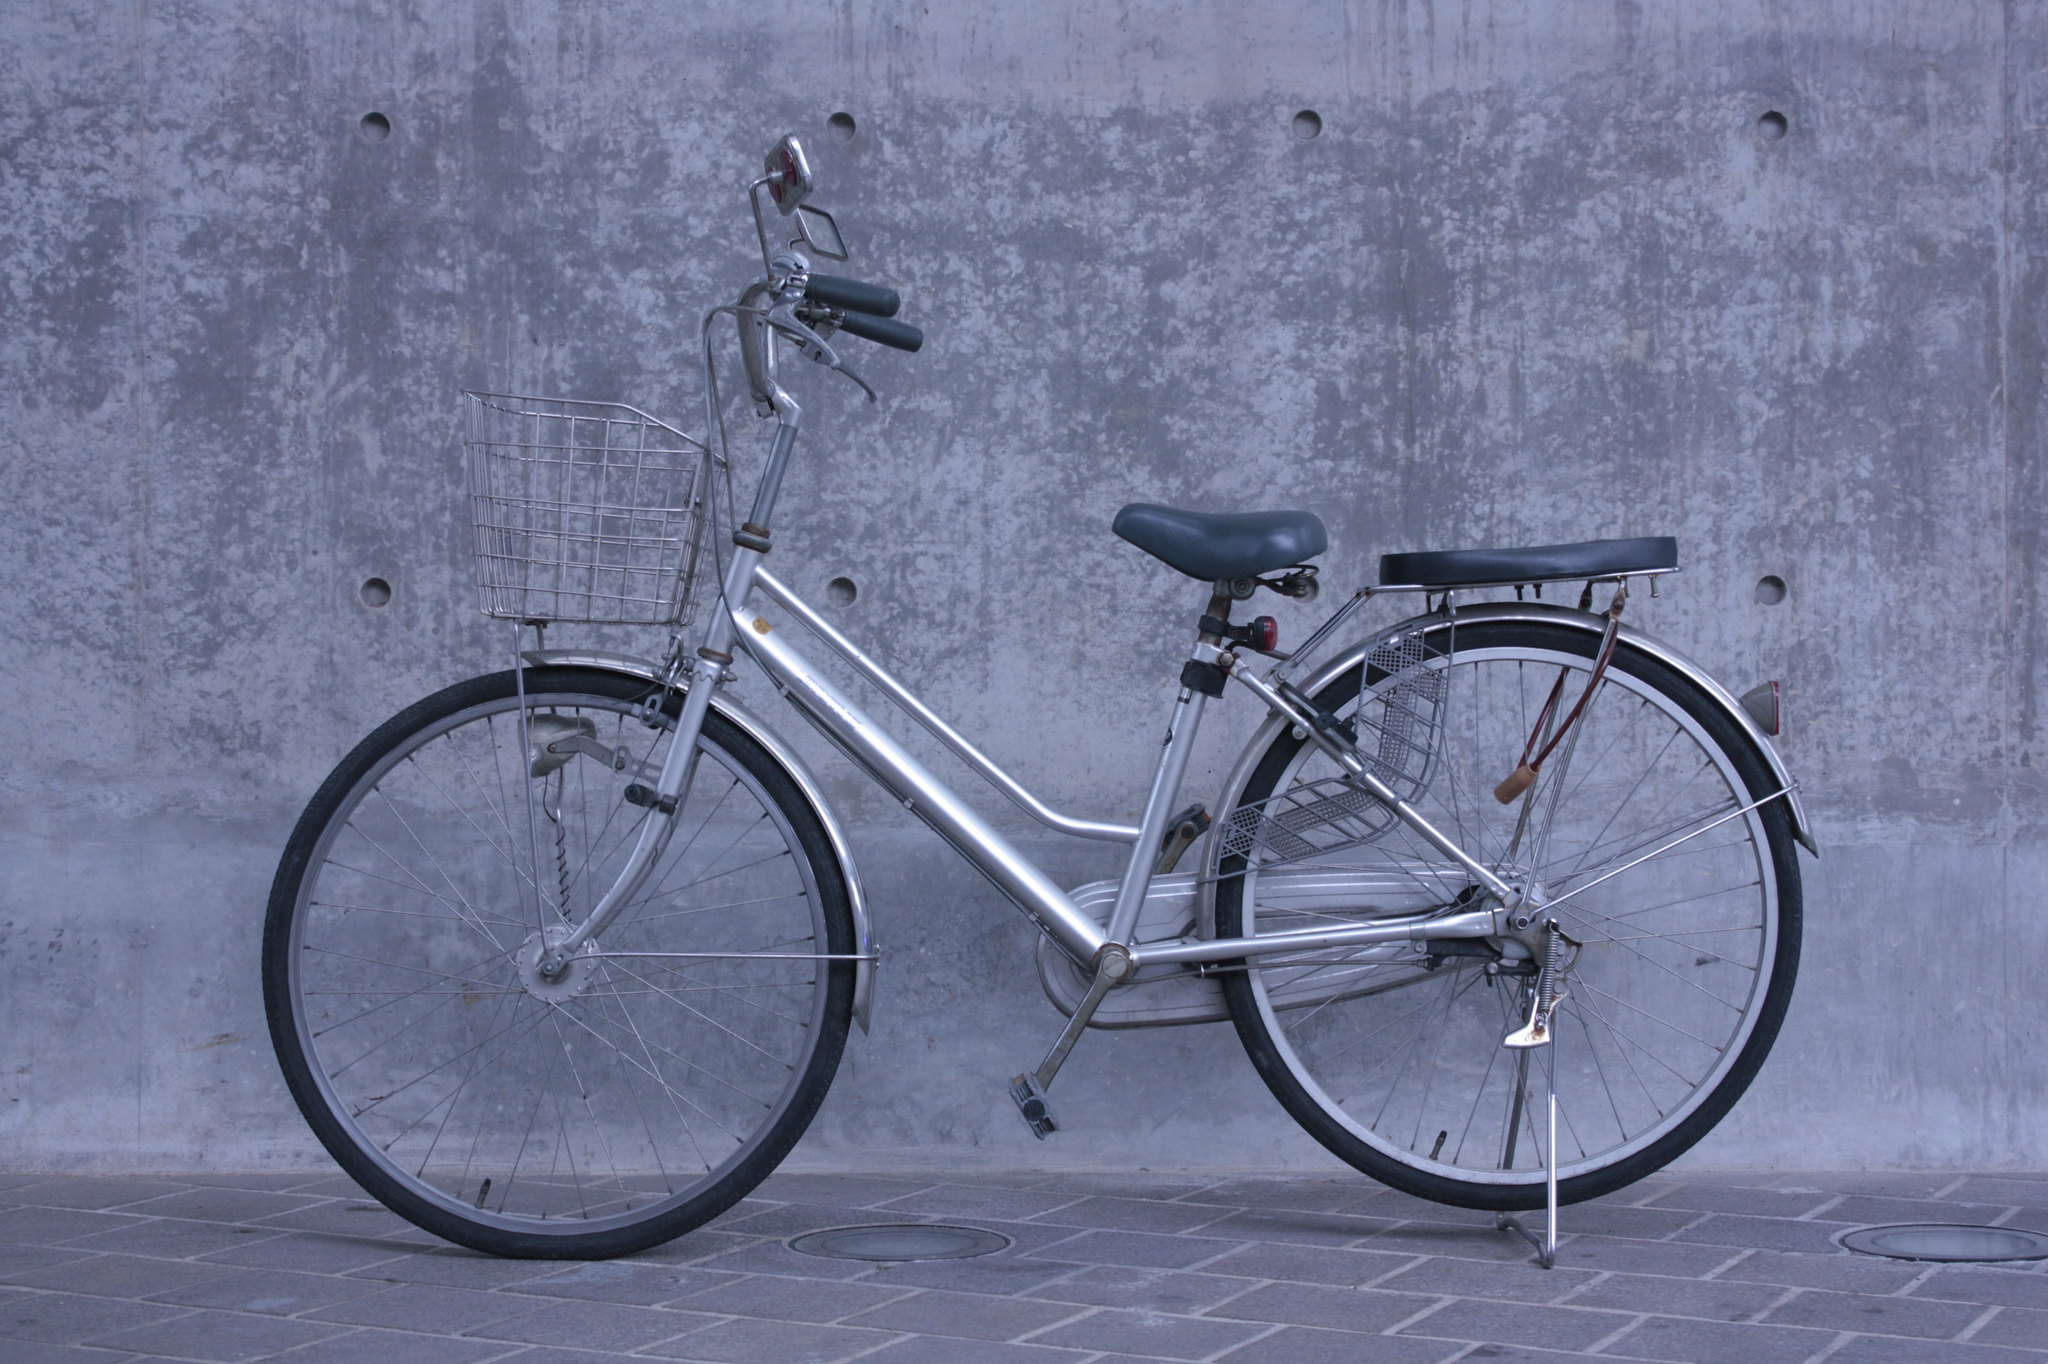bicycle: (215, 155, 1875, 1262)
